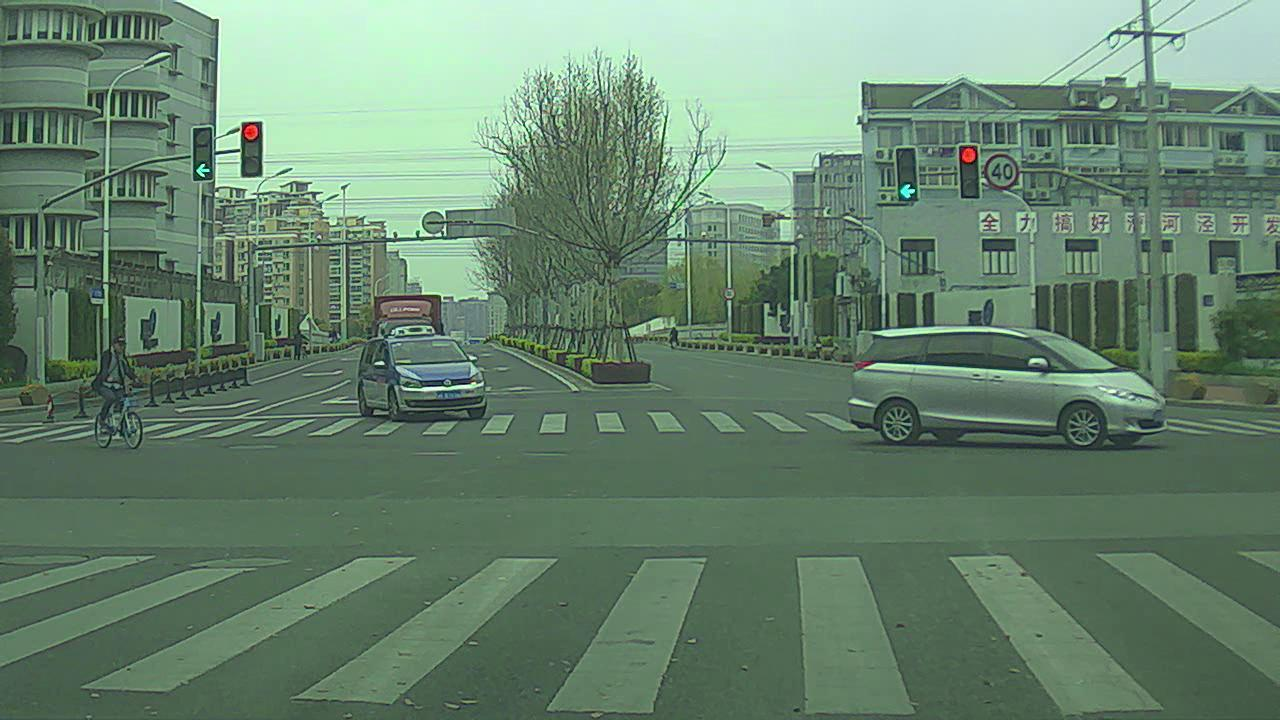traffic_light: (240, 120, 269, 182), (187, 125, 217, 184), (893, 142, 920, 204), (959, 143, 983, 198)
